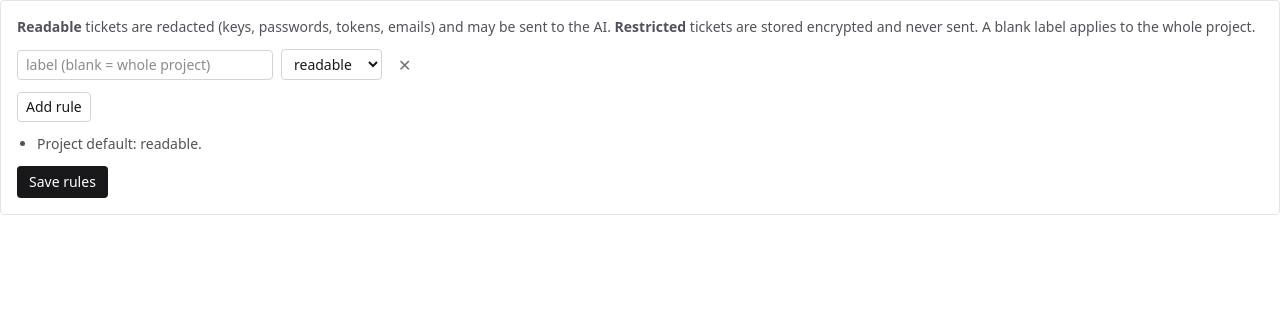
it: PolicyEditor › saves with PUT through the proxy using the CSRF header and tells the user about the re-ingest
Click the button "Add rule". click: click(54, 107)
box: [17,92,91,122]
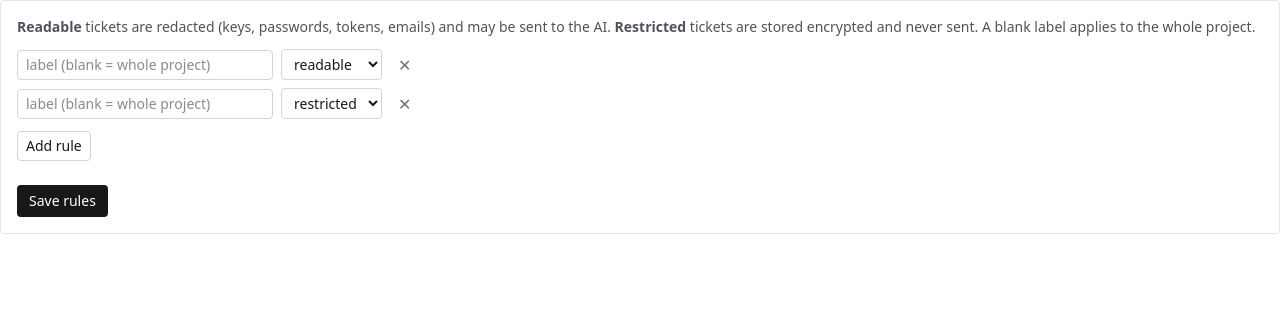
Type " hr-confidential " into the 2nd field labelled "label". click: (145, 104)
box: [17,88,273,118]
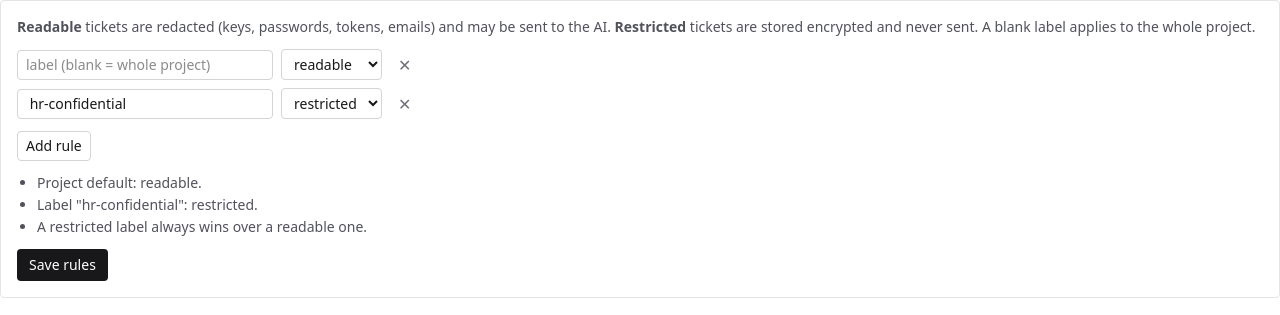
Select "restricted" in the 2nd dropdown named "Visibility". click: (332, 104)
box: [281,88,382,119]
Click the button "Save rules". click: click(62, 265)
box: [17,249,108,281]
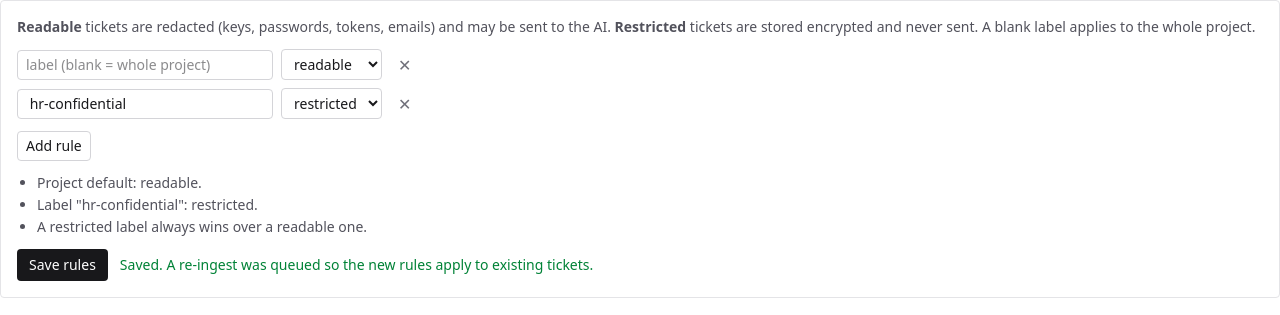
expect the text "Saved" is shown: met, box [120,255,593,274]
expect the text "Saved. A re-ingest was queued so the new rules apply to existing tickets." is shown: met, box [120,255,593,275]
